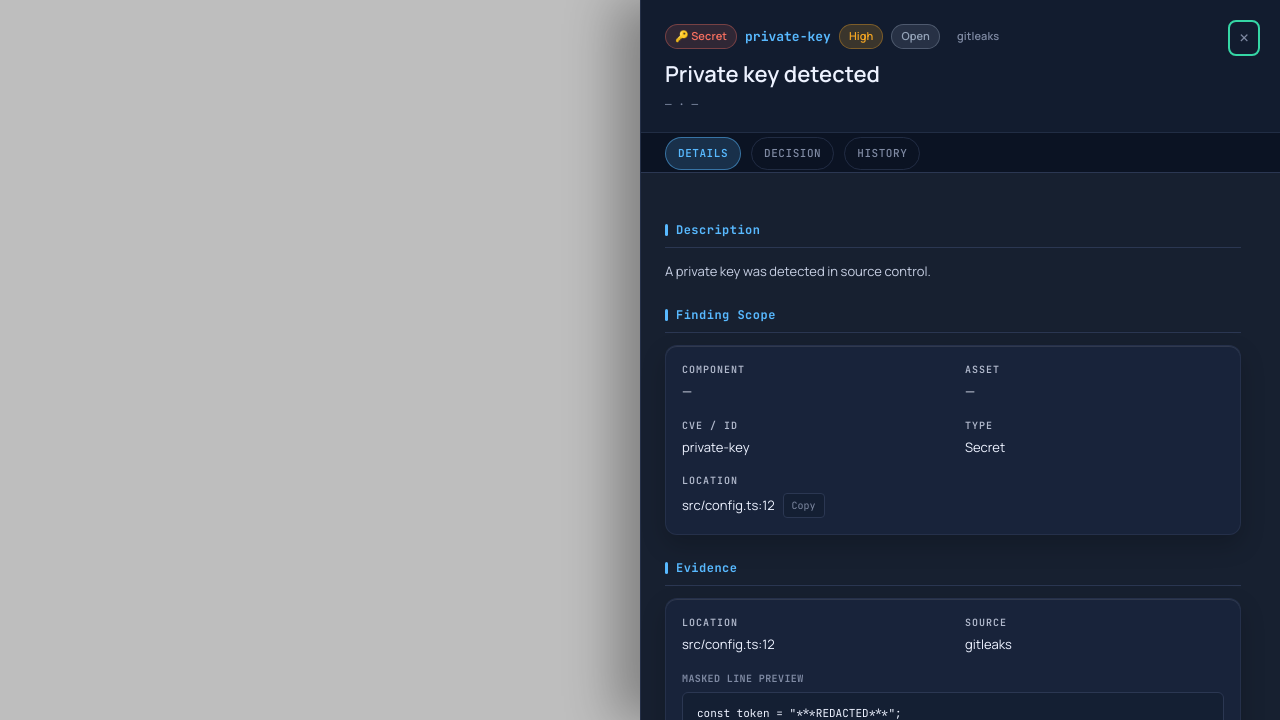
Scenario: DetailPanel evidence › shows an empty state when no audit history is recorded
What coordinates should you click on to do the following:
click the tab "History"
I would click on:
 (882, 153)
Its box is x1=844 y1=137 x2=920 y2=170.
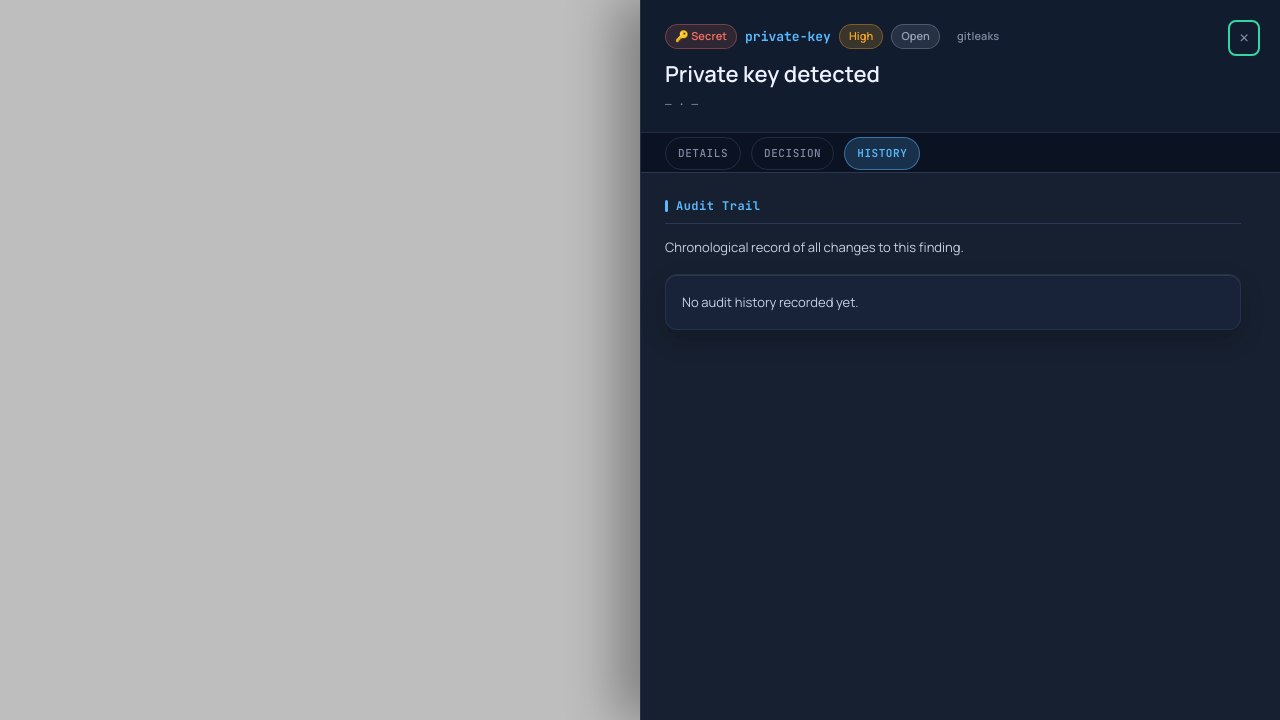
Check: the text "No audit history recorded yet." is shown, box x1=682 y1=293 x2=859 y2=311
